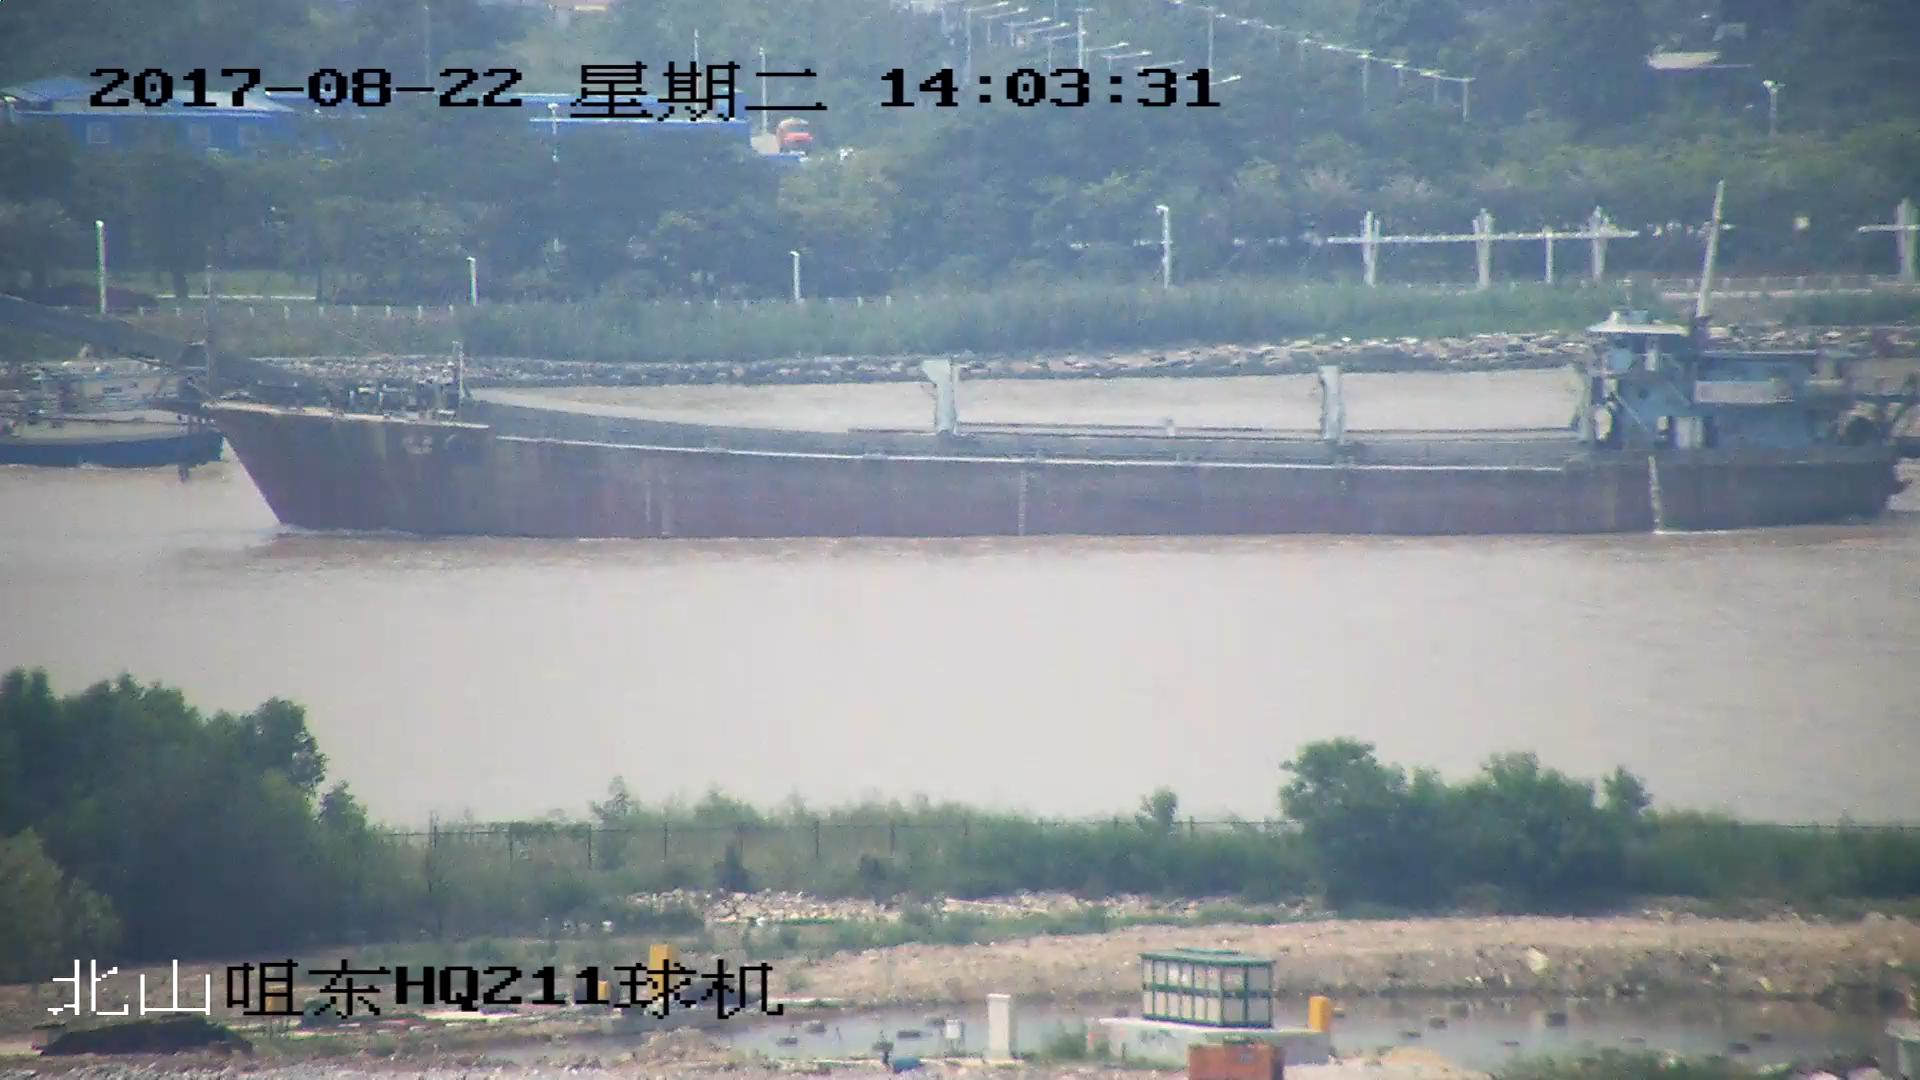bulk cargo carrier: (1, 296, 1920, 537)
fishing boat: (1, 361, 233, 463)
